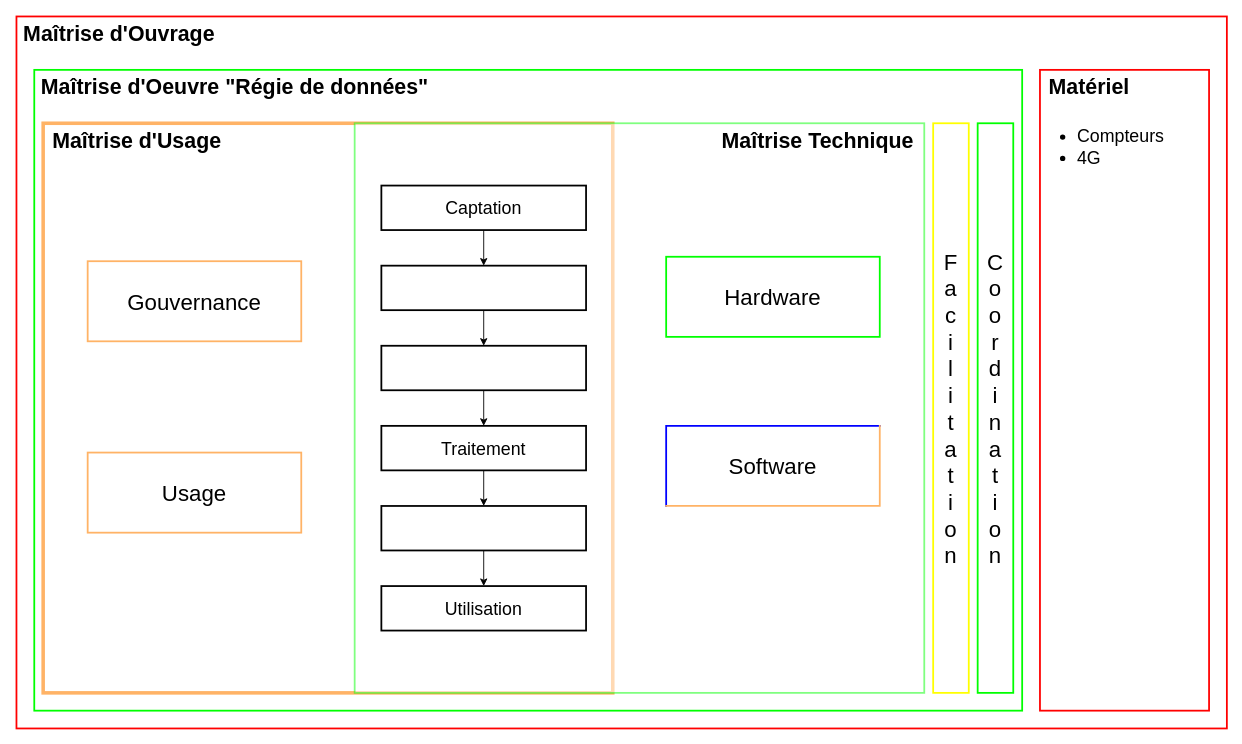
Image size: 1242x744. Some labels were removed from this diagram. The shapes that lost their labels are listed below. From the top down, each one's centre as x and y in pixels, then its label:
At (483,287): "Envoi/Réception".
At (483,367): "Stockage".
At (483,528): "Visualisation".
